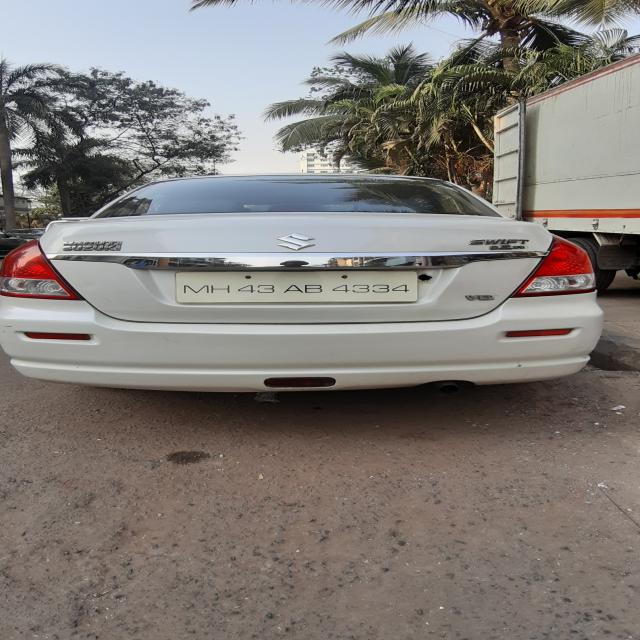Number-Plate: (183, 272, 415, 302)
